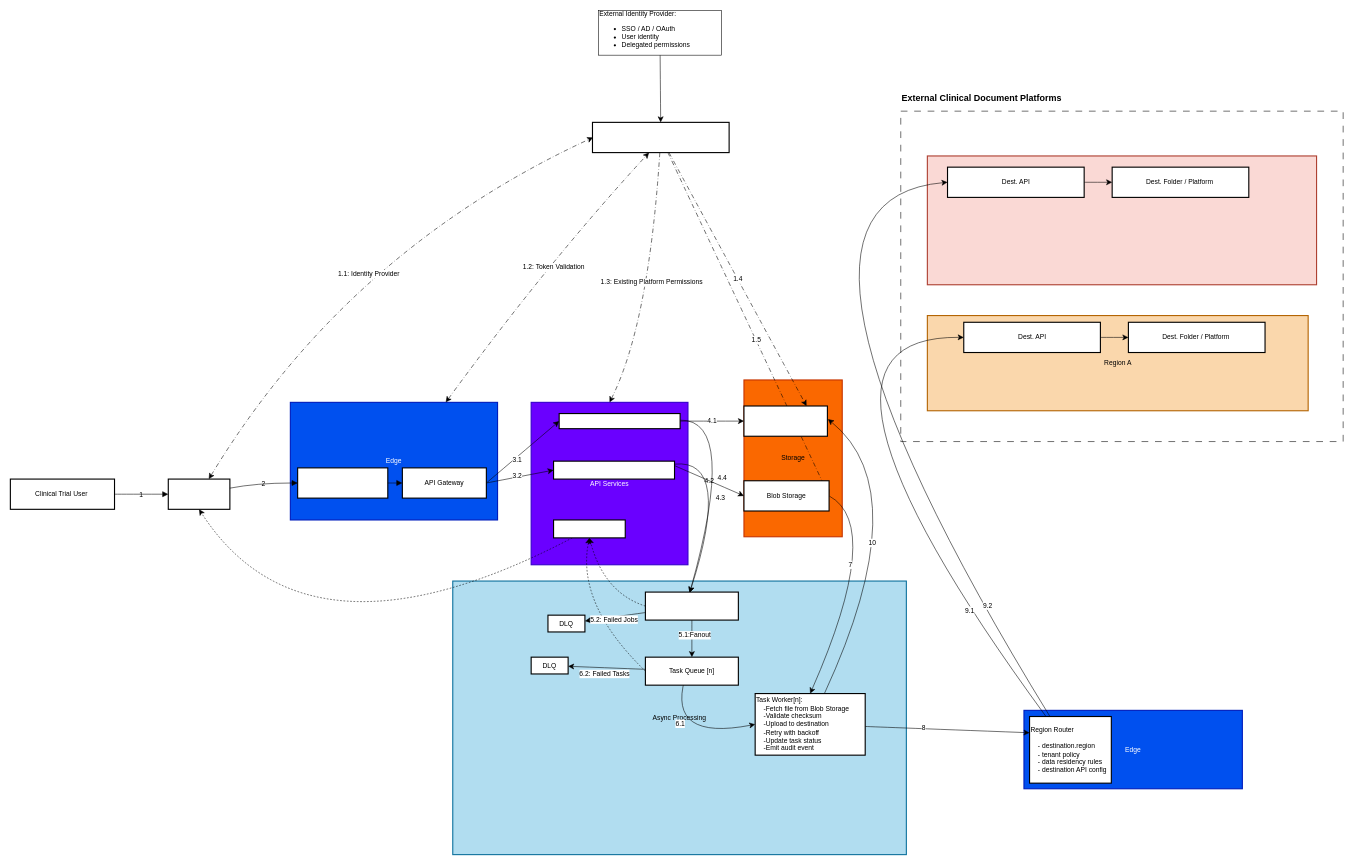
The diagram is 1353 pixels wide and 865 high, and some of its shapes have lost their labels. Each missing label, with the box of its shape:
Job Queue: (645, 591, 739, 620)
Key Management Services: (592, 122, 729, 153)
Load Balencer: (297, 467, 388, 498)
Metadata API: (558, 413, 680, 429)
PostGress DB: (743, 405, 828, 437)
Region B: (927, 155, 1317, 285)
Upload API: (553, 460, 675, 479)
Web UI: (167, 478, 230, 510)
Websocket Service: (553, 519, 626, 538)
